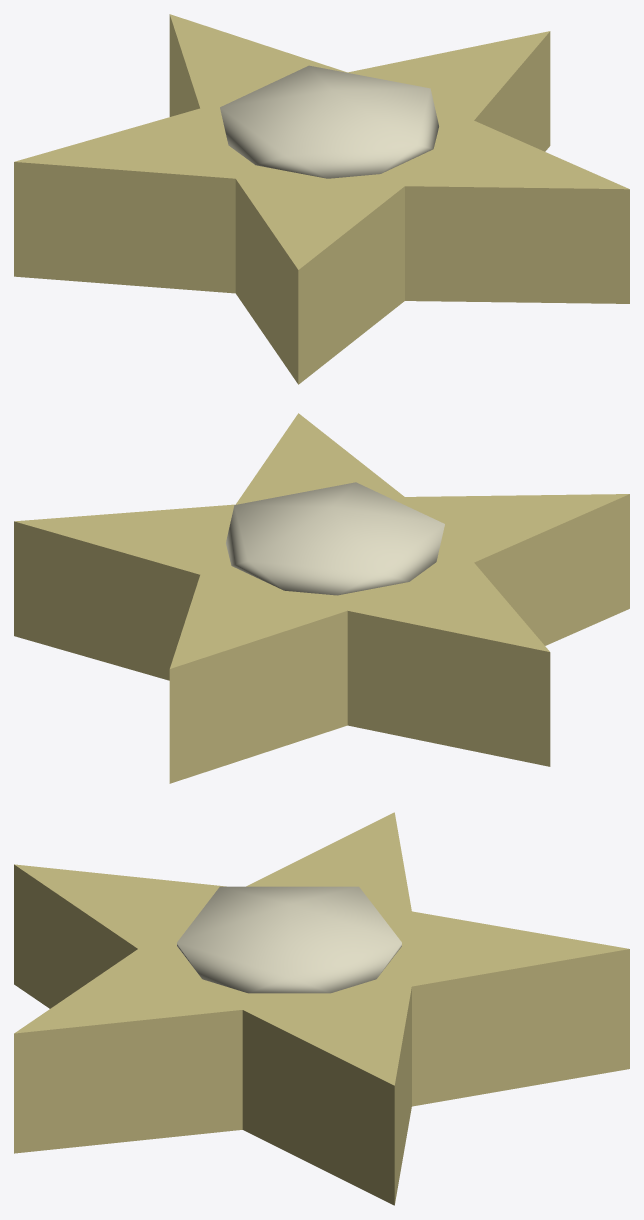
Rendered from item_ic_starcrystal.glb.
The picture shows the model from 3 angles, top to bottom: view 1: azimuth 30°, elevation 25°; view 2: azimuth 150°, elevation 25°; view 3: azimuth 270°, elevation 25°; orthographic projection. The views are drawn at different scales.
Visible parts, largest first — view 1: item_ic_starcrystal_gloss; view 2: item_ic_starcrystal_gloss; view 3: item_ic_starcrystal_gloss.
Boxes of the visible parts, x1,y1,x2,y2 form: item_ic_starcrystal_gloss: (14,14,629,384); item_ic_starcrystal_gloss: (14,413,629,783); item_ic_starcrystal_gloss: (14,812,629,1205).
Bounding box in the file's own units: 0.1712 × 0.048 × 0.1628.
